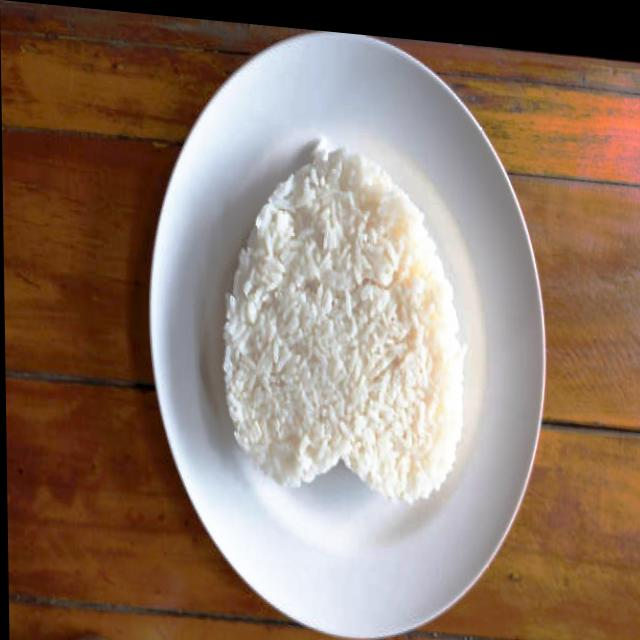rice: (221, 126, 468, 509)
